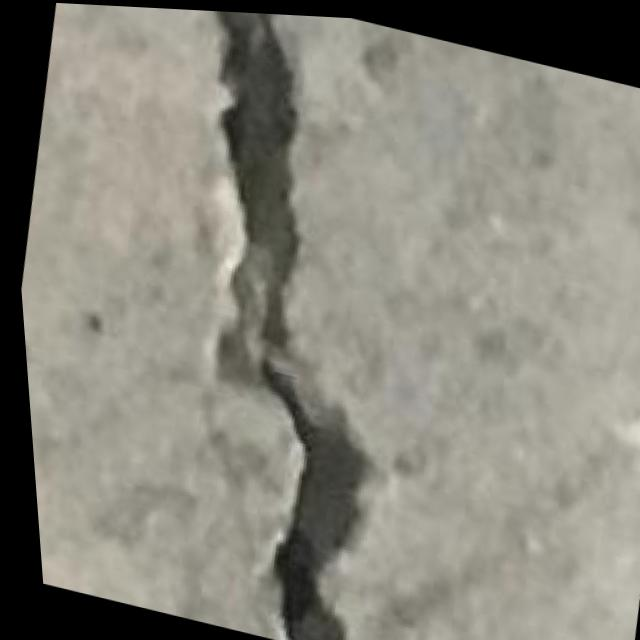Crack: (111, 5, 491, 640)
